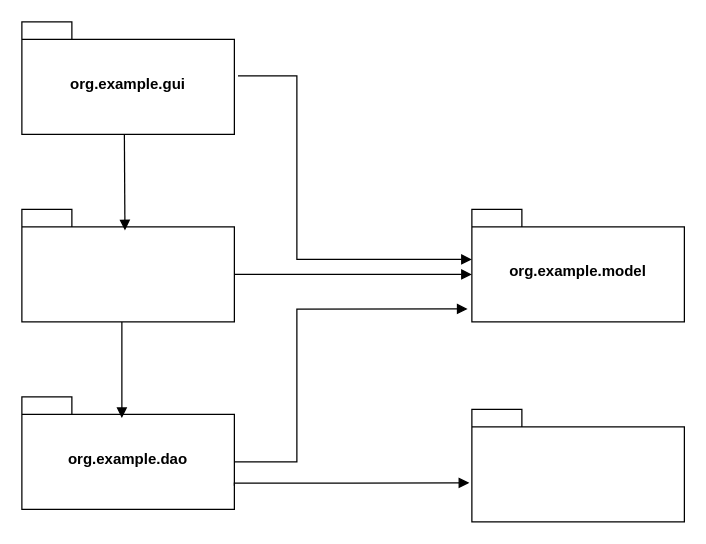
Image size: 706x544. Some labels were removed from this diagram. The box of each missing label's shape, as (x1, y1, x2, y2) in pixels:
org.example.businessLogic: (21, 208, 234, 322)
org.example.connection: (471, 408, 684, 522)
